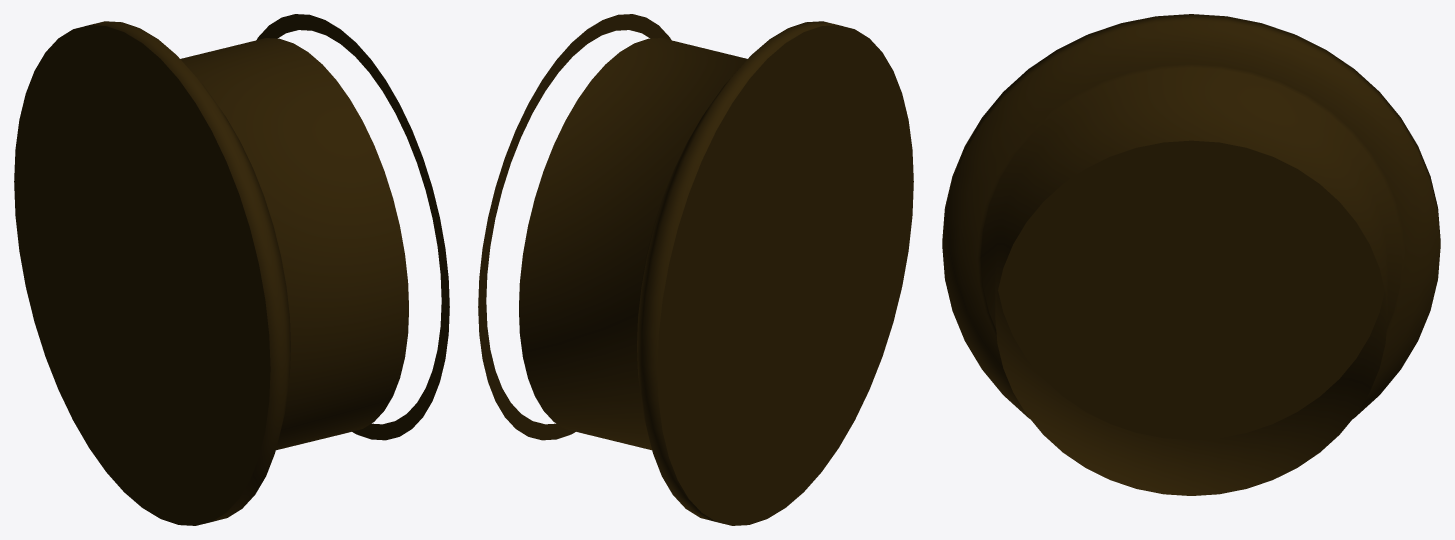
3 views of the same model, side by side, from view 1: azimuth 30°, elevation 25°; view 2: azimuth 150°, elevation 25°; view 3: azimuth 270°, elevation 25° (orthographic). The views are drawn at different scales.
Visible parts, largest first — view 1: base_1; view 2: base_1; view 3: base_1.
Part boxes in pixels (left/top/right/bottom): base_1: left=14, top=14, right=449, bottom=525; base_1: left=478, top=14, right=913, bottom=525; base_1: left=942, top=14, right=1440, bottom=495.
Size of the model in its own units: 0.0125 by 0.028 by 0.028.
